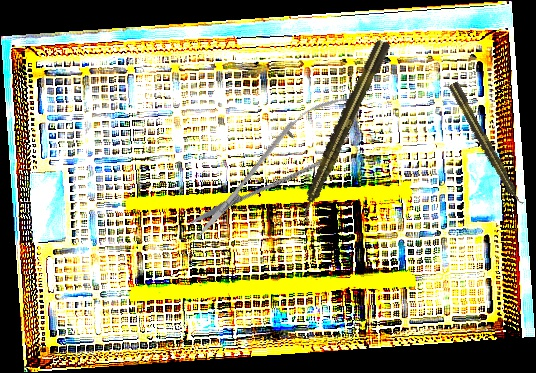Handpiece: (293, 36, 393, 224), (447, 80, 526, 209)
Micro Scissor: (175, 76, 380, 254)
